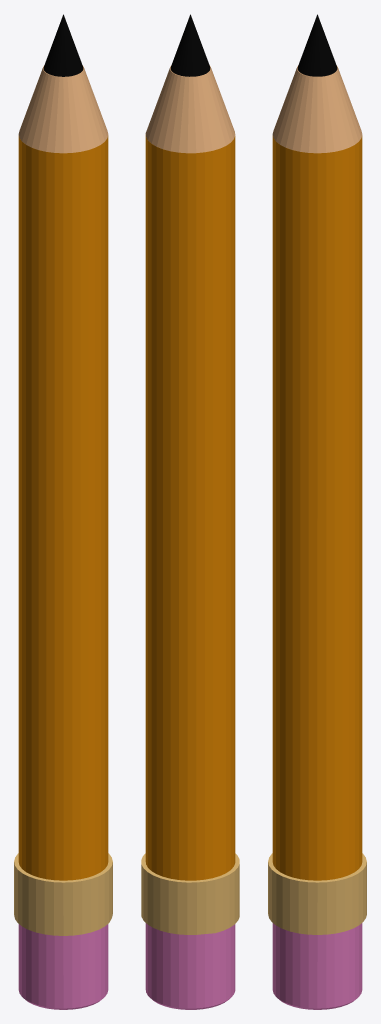
Rendered from pencil_0.glb.
The picture shows the model from 3 angles, left to right: view 1: azimuth 90°, elevation 25°; view 2: azimuth 210°, elevation 25°; view 3: azimuth 270°, elevation 25°; orthographic projection.
Visible parts, largest first — view 1: c04011a970de41cdbdf153814e538e28; view 2: c04011a970de41cdbdf153814e538e28; view 3: c04011a970de41cdbdf153814e538e28.
Part boxes in pixels (<box>): c04011a970de41cdbdf153814e538e28: <box>14,14,112,1009</box>; c04011a970de41cdbdf153814e538e28: <box>141,14,239,1009</box>; c04011a970de41cdbdf153814e538e28: <box>268,14,366,1009</box>.
Size of the model in its own units: 0.0916 by 1 by 0.0916.
